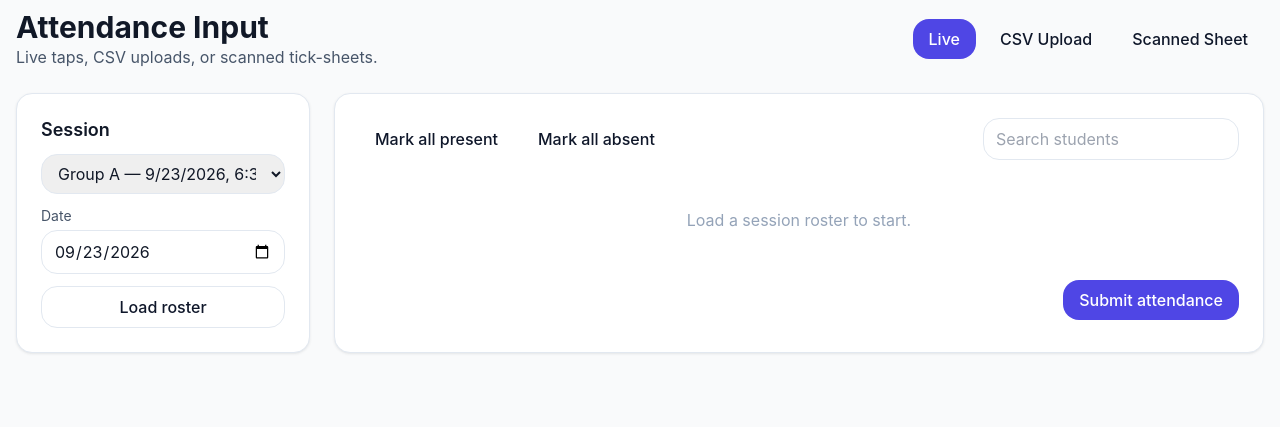
Test: AttendanceInputPage › loads roster and toggles status
Click the button "Load roster". click: [163, 307]
box: [41,286,285,328]
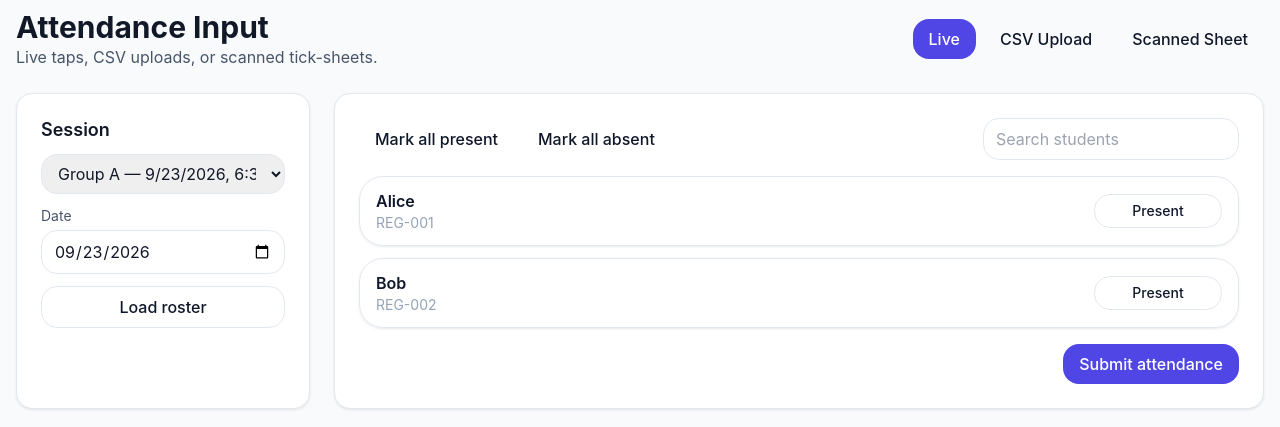
Click the button "Present" in the row of "REG-001". click: [1158, 211]
box: [1094,194,1222,228]
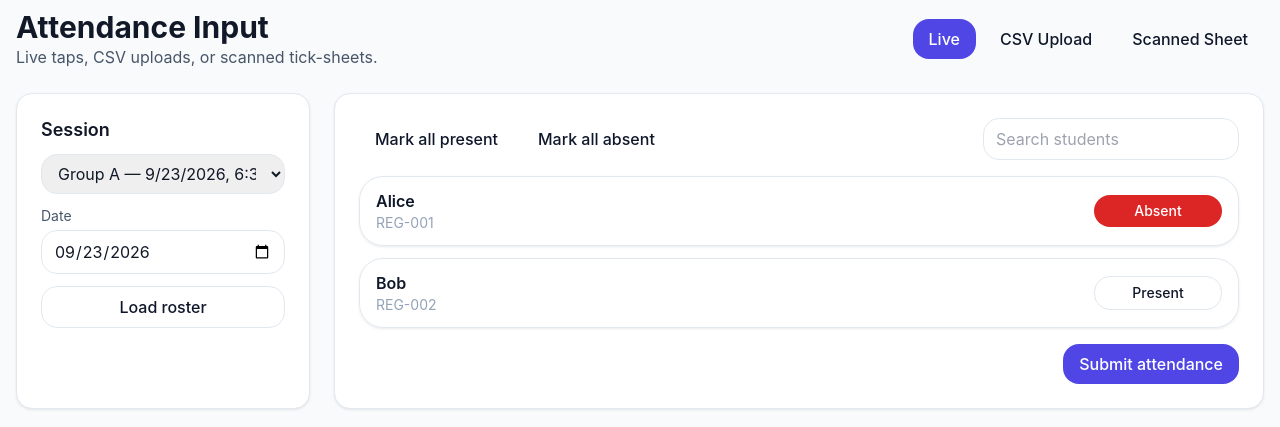
expect the button named "Present" reads "Absent": met, box [1094,195,1222,227]
